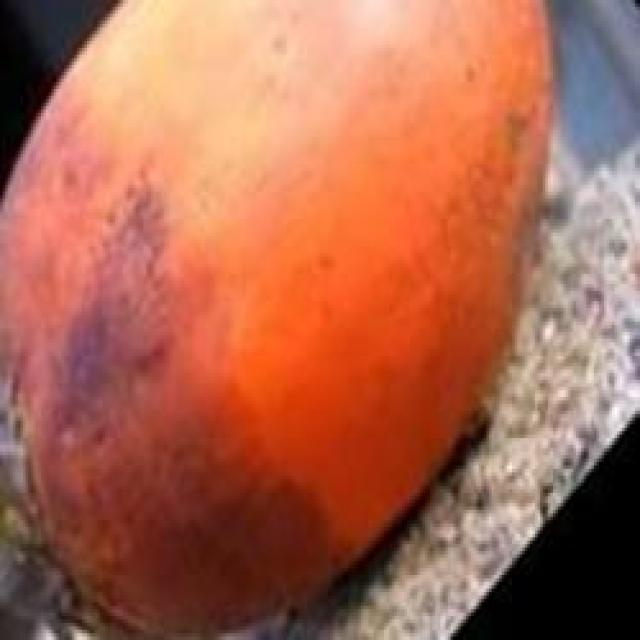good: (0, 0, 558, 637)
